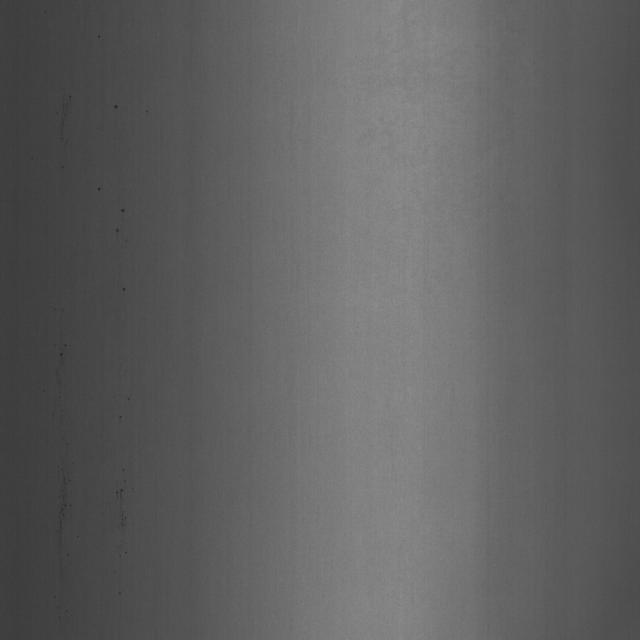oil_spot: (96, 421, 138, 574), (47, 54, 94, 176), (111, 200, 134, 312)
